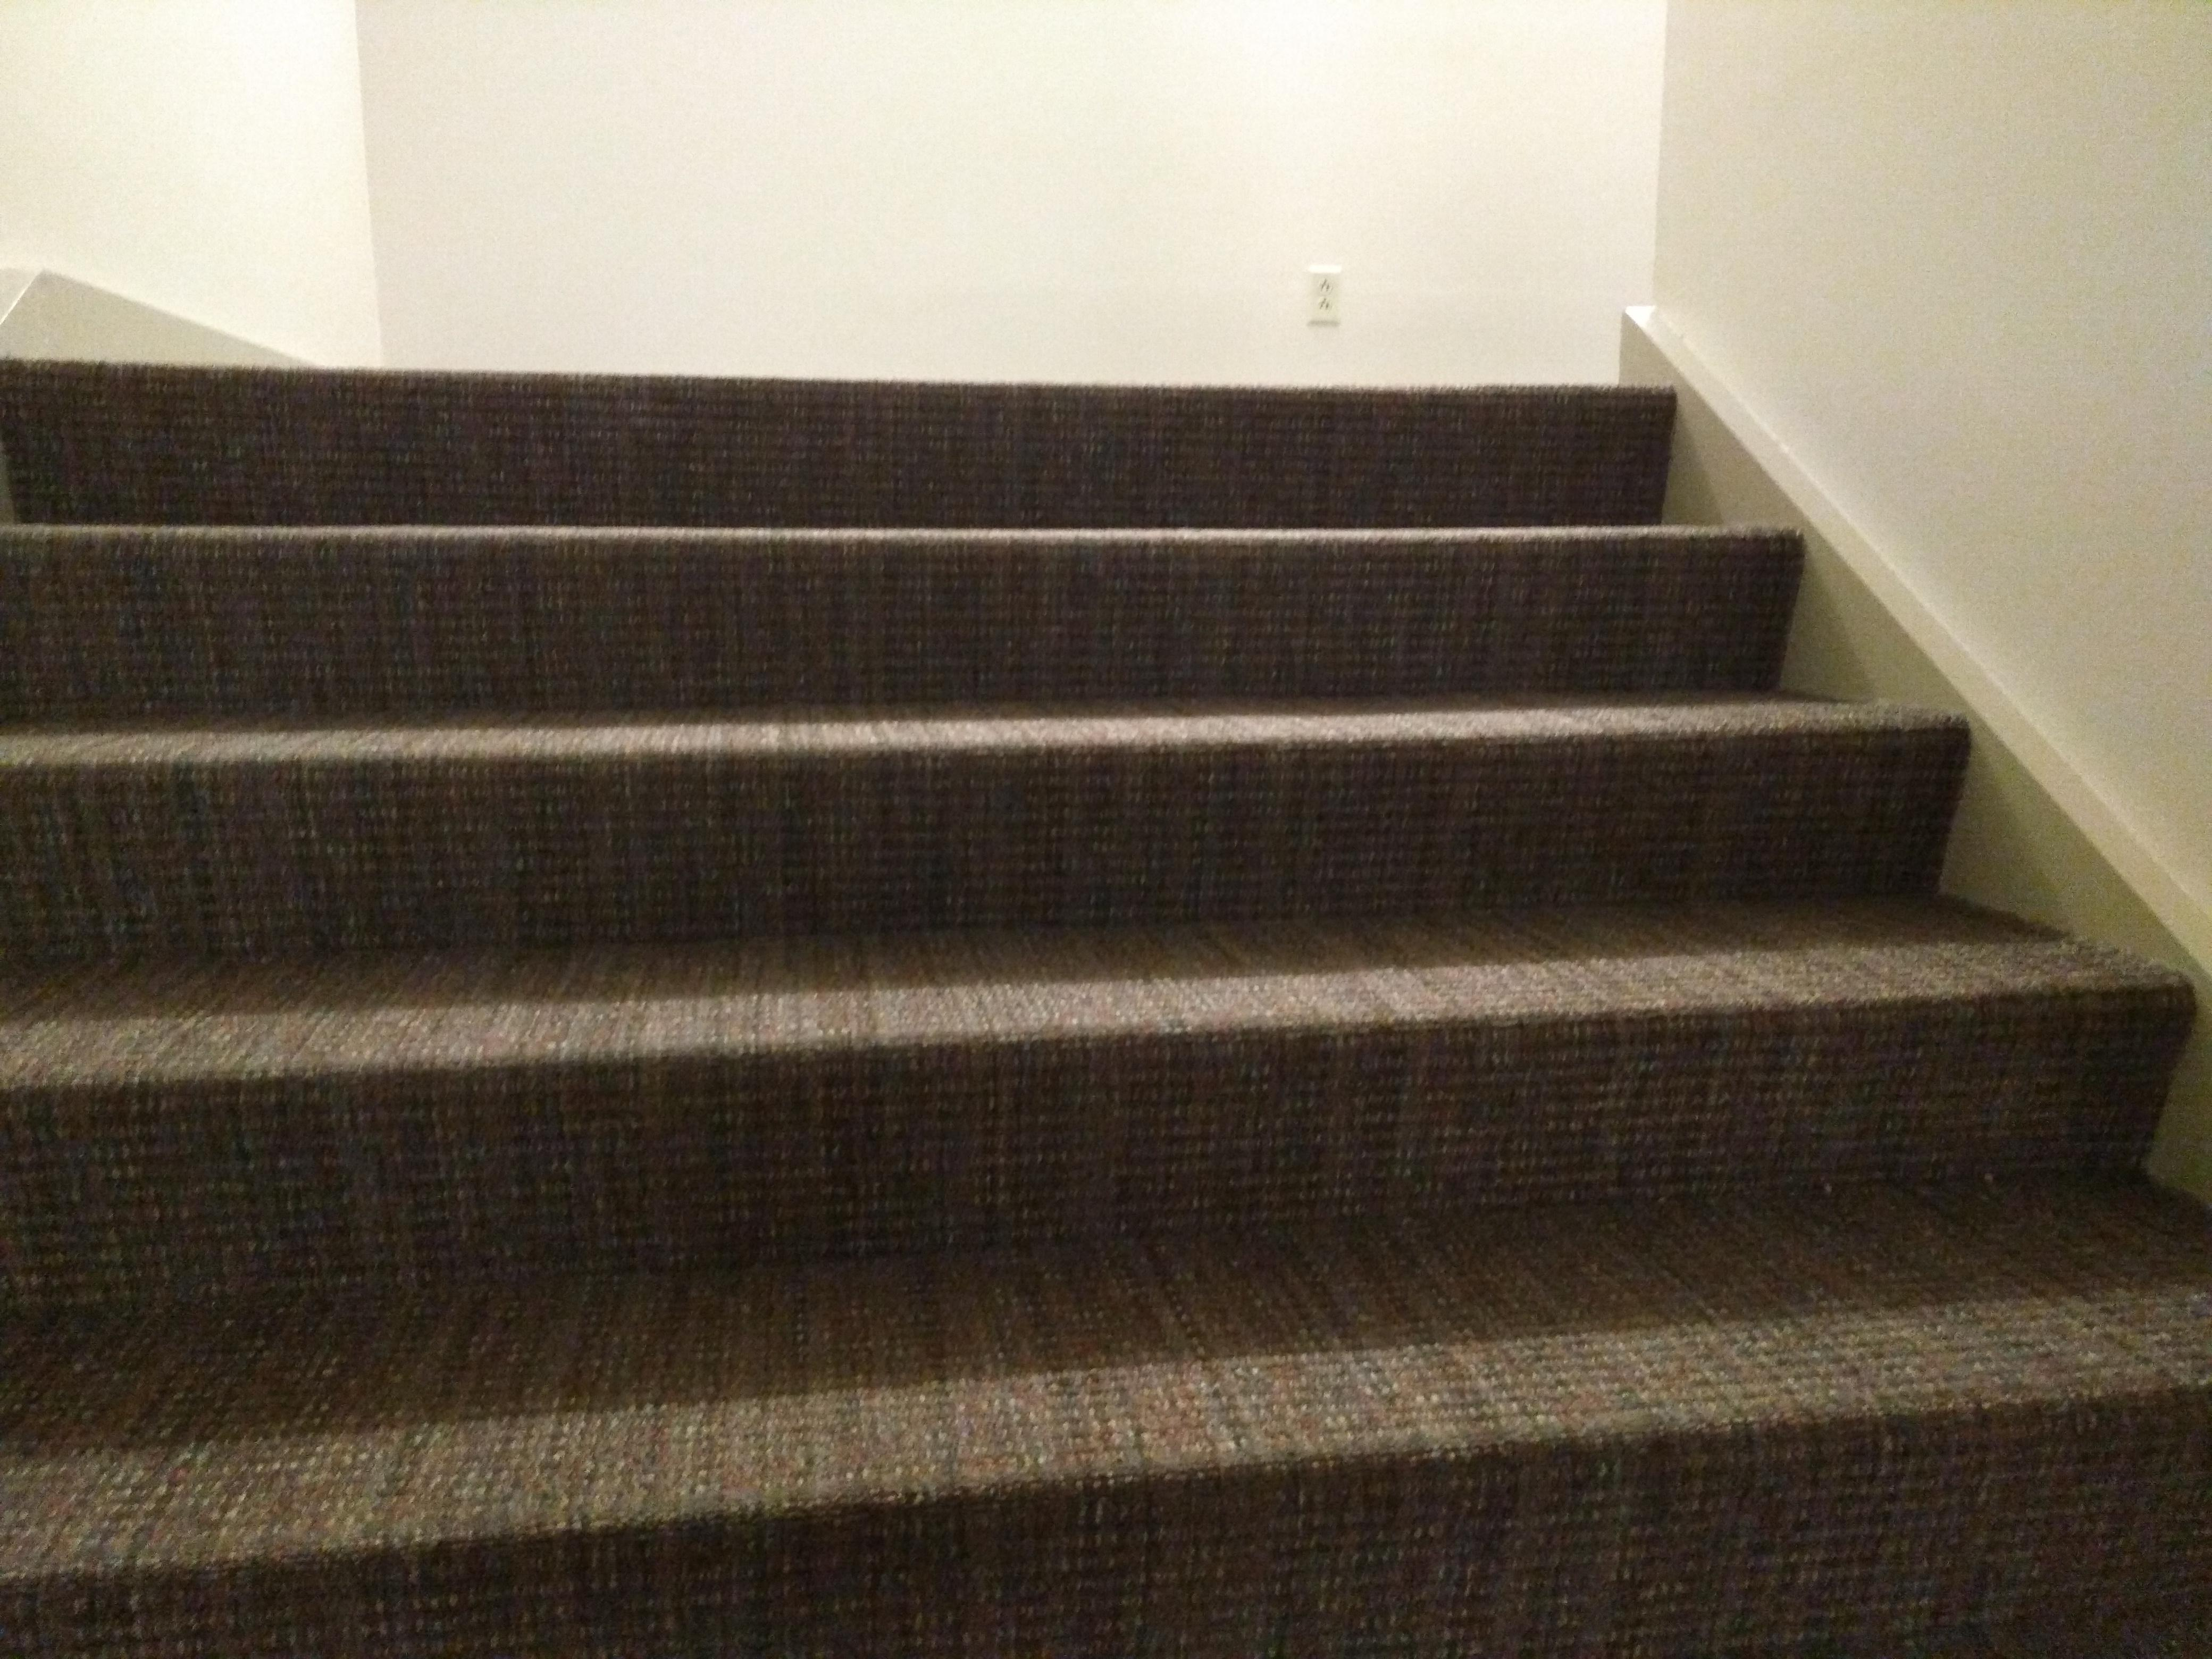stairs_up: (0, 333, 2203, 1617)
